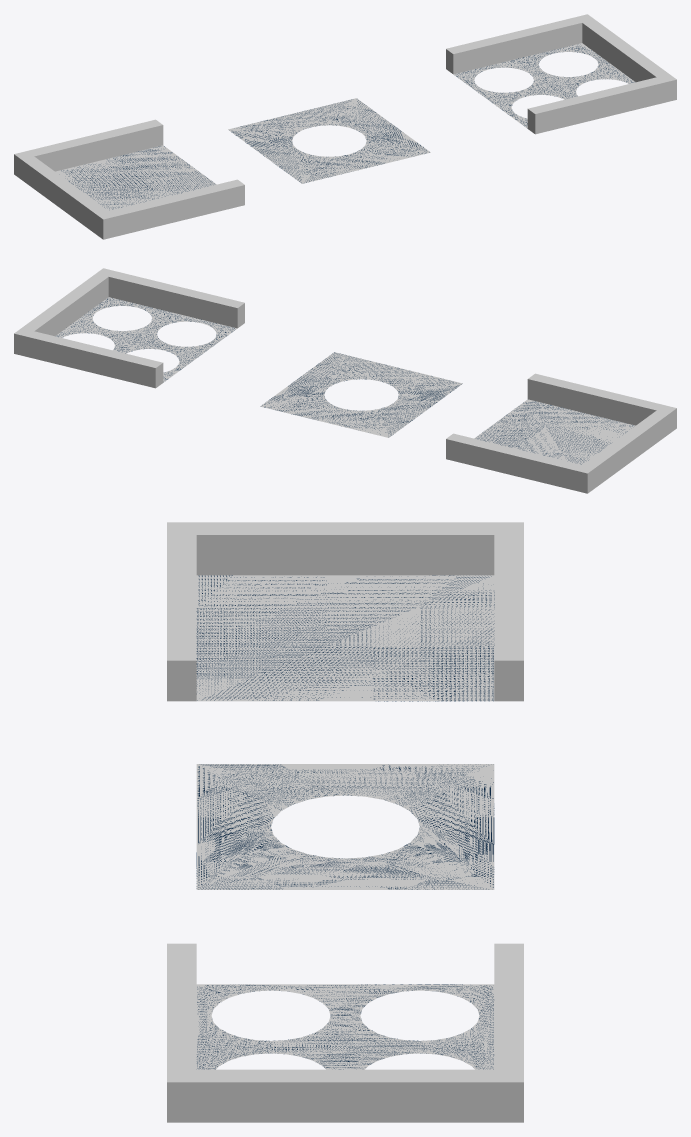
File: Stage3.dae
The picture shows the model from 3 angles, top to bottom: view 1: azimuth 30°, elevation 25°; view 2: azimuth 150°, elevation 25°; view 3: azimuth 270°, elevation 25°; orthographic projection. The views are drawn at different scales.
Parts seen in each view (by area): view 1: SketchUp (×5); view 2: SketchUp (×5); view 3: SketchUp (×5).
Part boxes in pixels (<box>): SketchUp (×5): <box>14,14,676,239</box>; SketchUp (×5): <box>14,268,676,493</box>; SketchUp (×5): <box>167,522,523,1122</box>.
Size of the model in its own units: 35.04 by 9.45 by 1.18.
